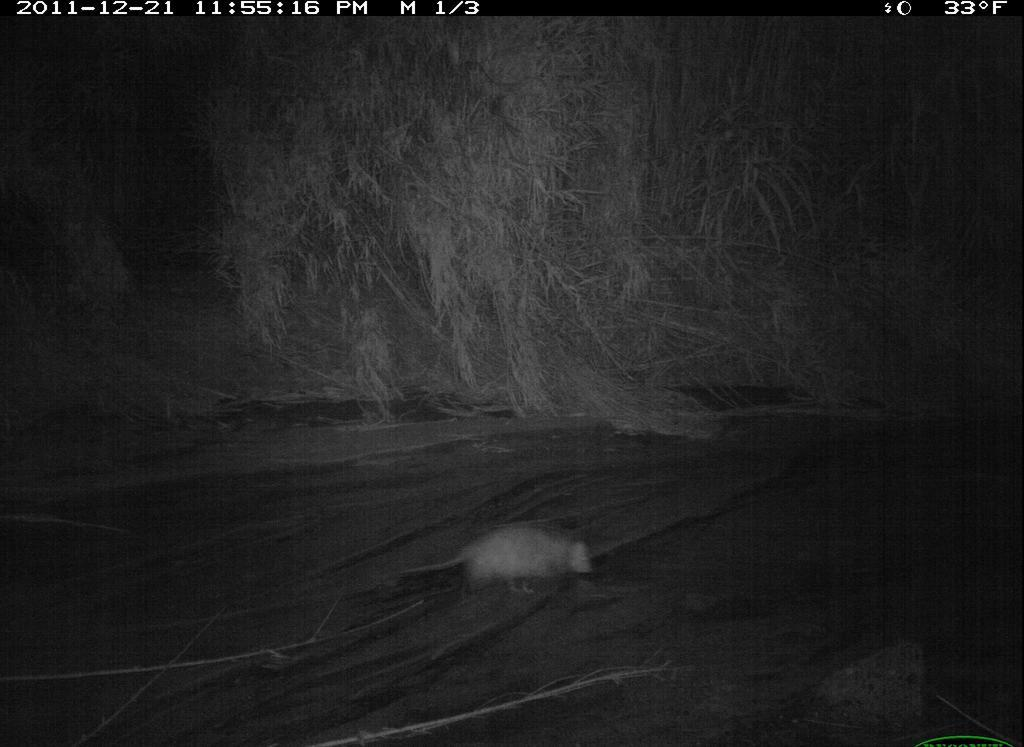opossum: (380, 516, 623, 613)
